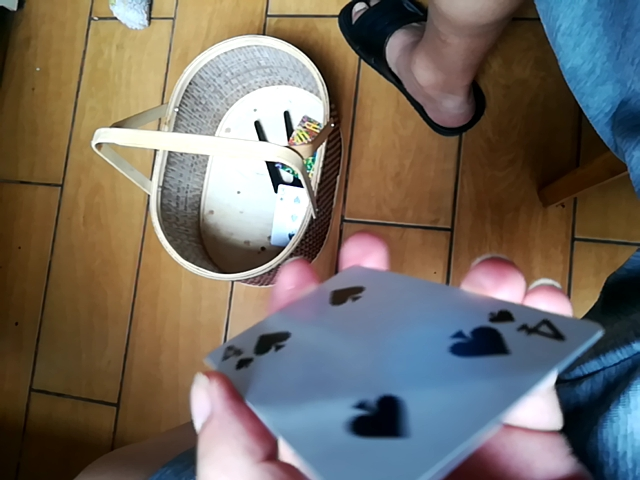ht 4: (191, 252, 591, 480)
